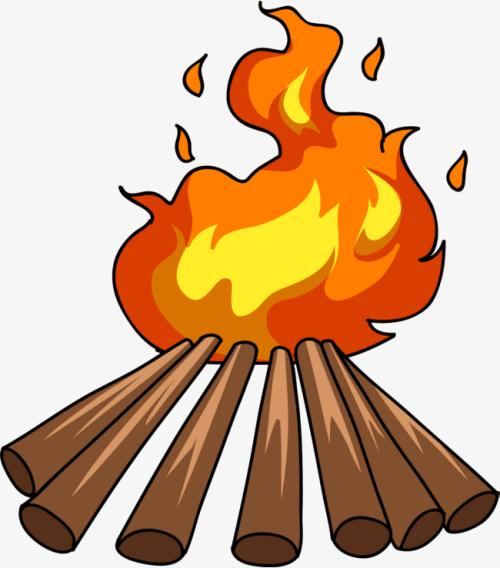fire: (120, 53, 427, 335)
